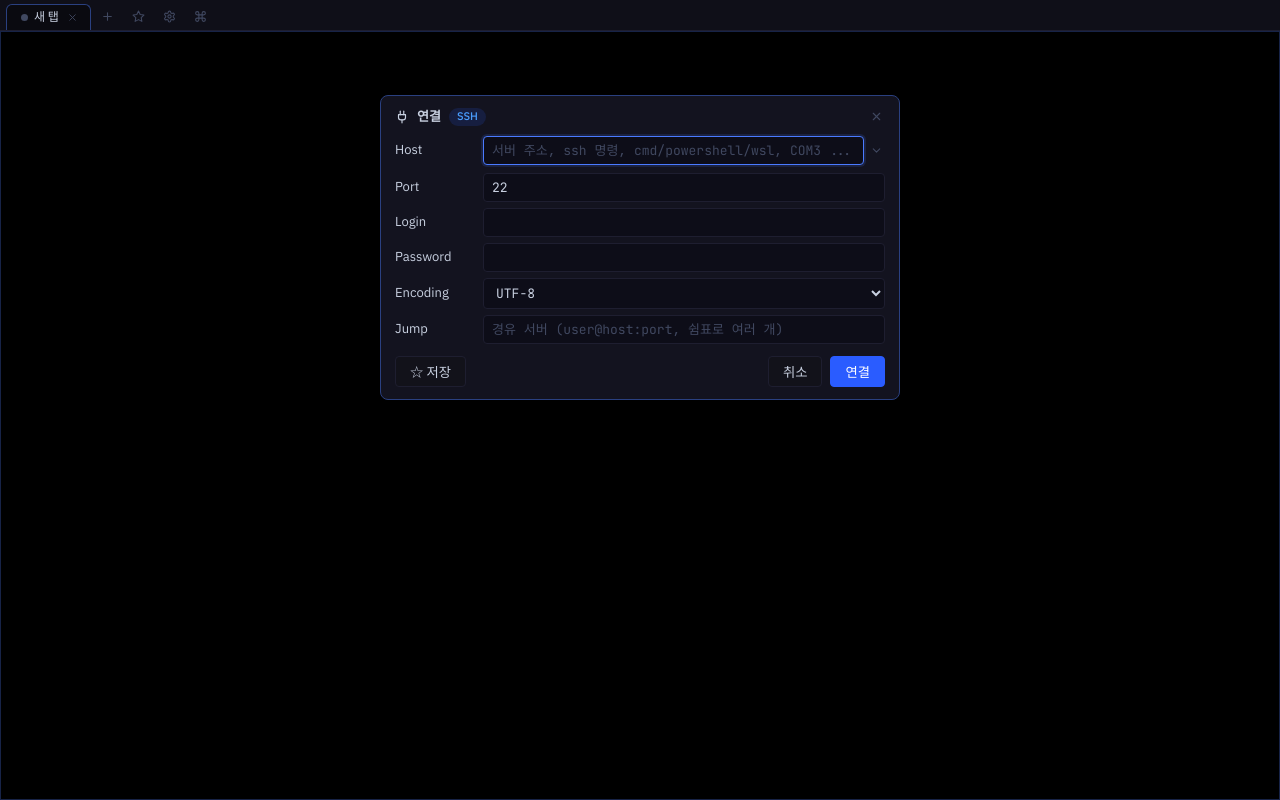
Test: 업데이트 확인 (UP) › UP-03: 설정 > 지금 확인 → 결과 표시 (최신 / 오류)
Expected: the field labelled "Host" is shown, [483,136,864,165]
Press O in the element showing "새 탭 연결 SSH Host Port Login Password Encoding Jump ☆ 저장 취소 연결"
(page scrolled)
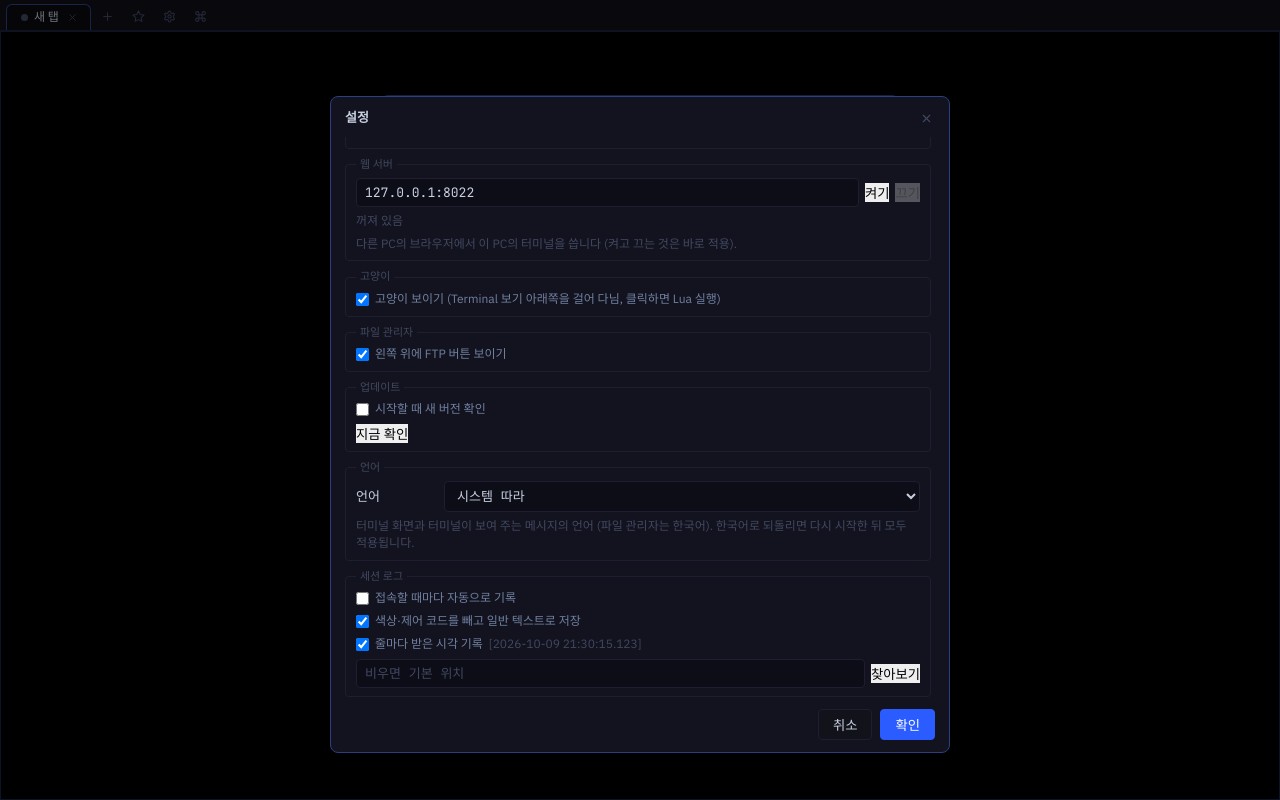
Click the button "지금 확인". click: point(382, 434)
box: [356,424,408,443]
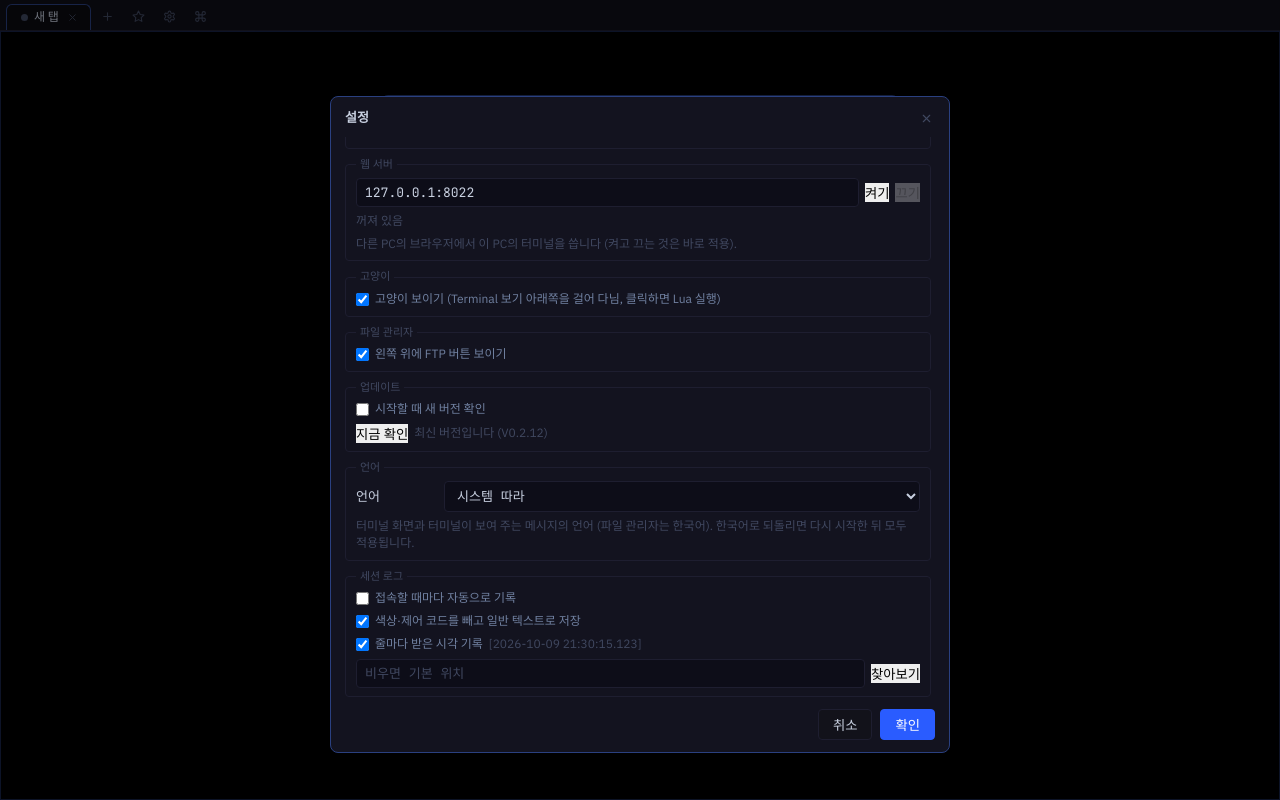
Expected: the text "최신 버전입니다 (V0.2.12)" is shown, [414,425,548,442]
Click the button "지금 확인". click: point(382, 434)
box: [356,424,408,443]
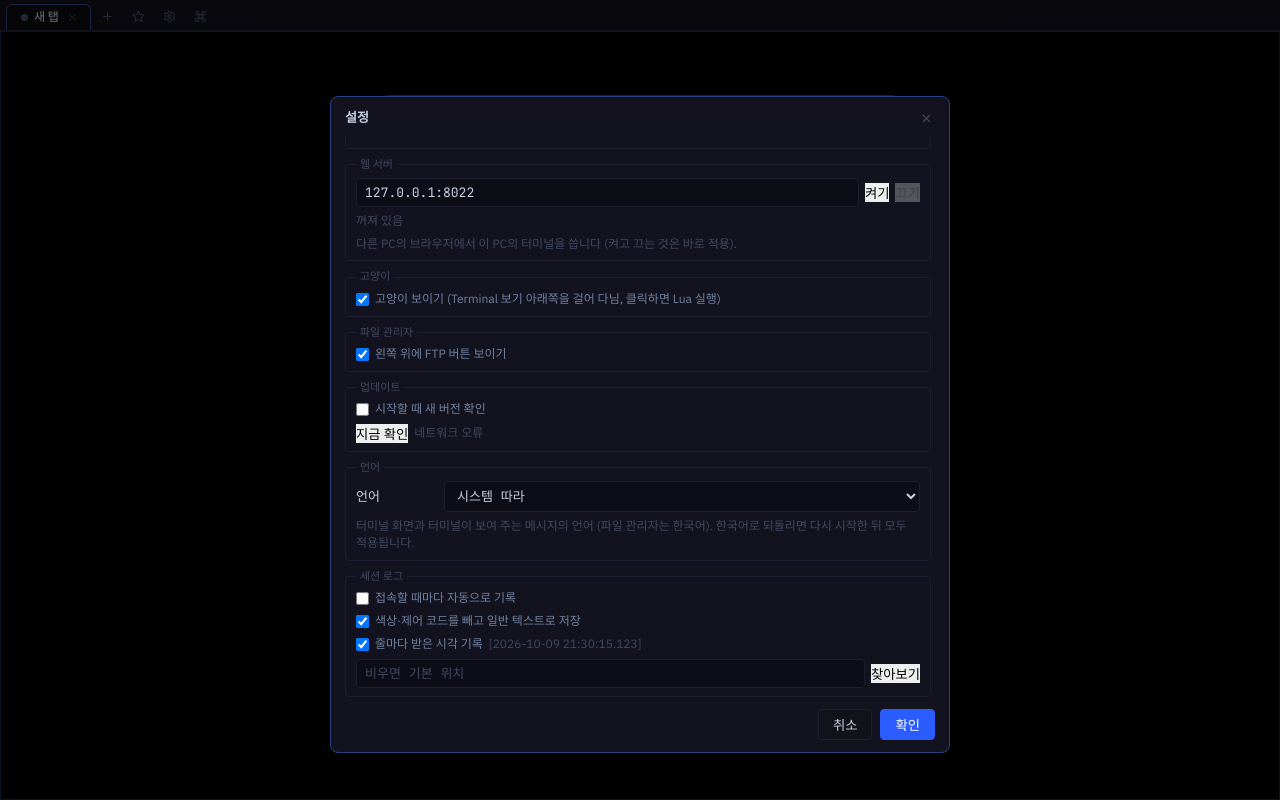
Expected: the text "네트워크 오류" is shown, [414,425,483,442]
